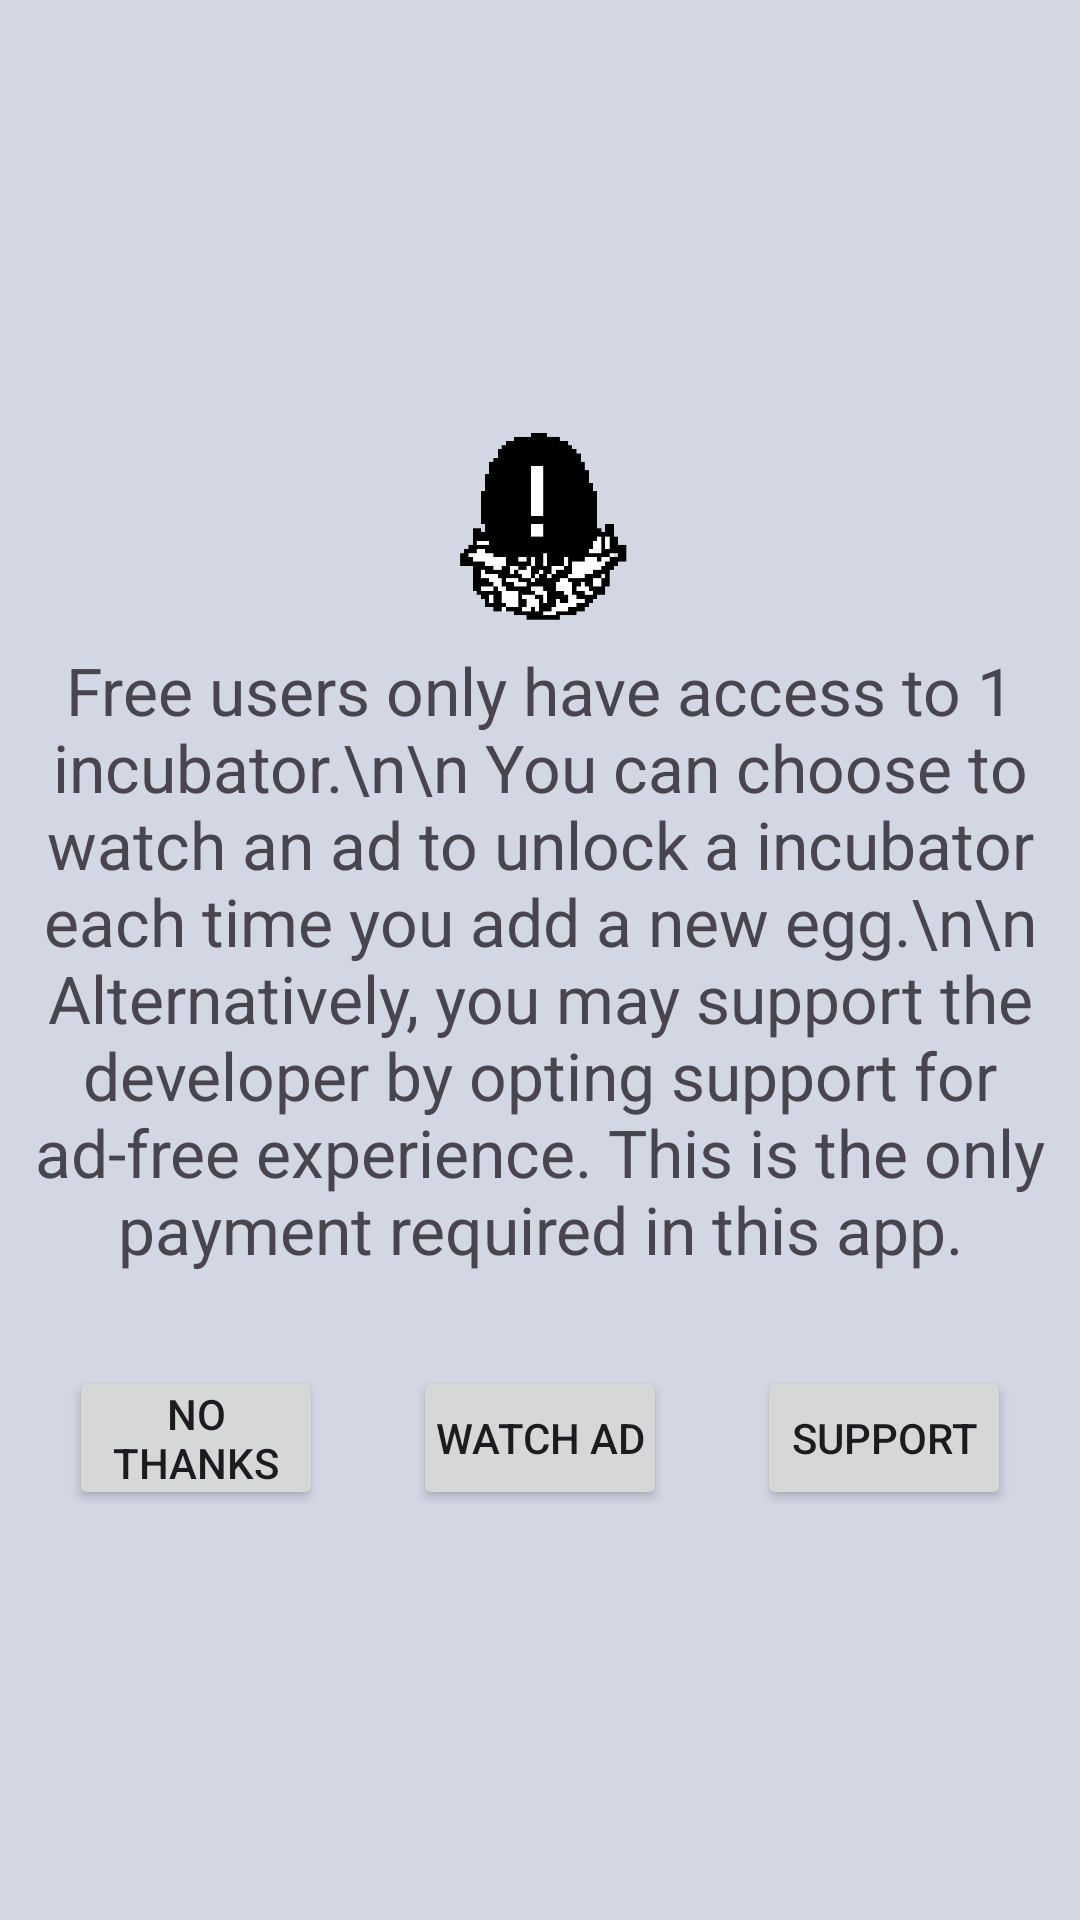

Where icons sit on this 1080×1920 app screen, as (x1=x1, y1=y1, x2=x2, y2=y2):
unknown egg: (x1=460, y1=433, x2=627, y2=620)
